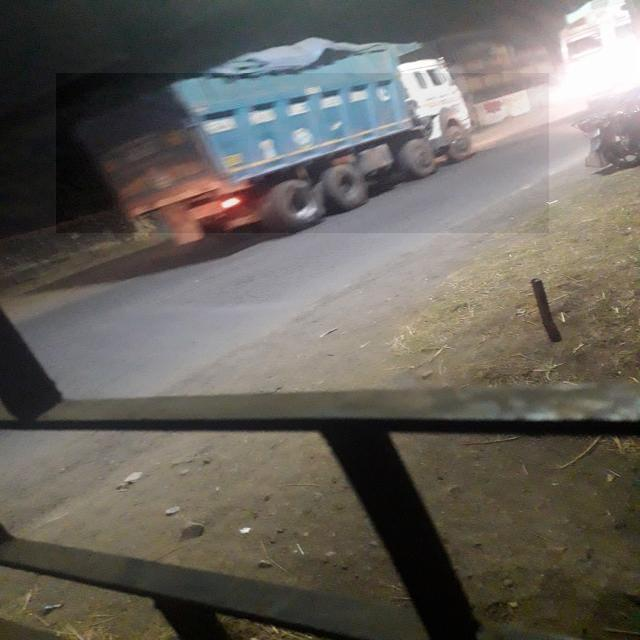Truck: (56, 74, 549, 234)
